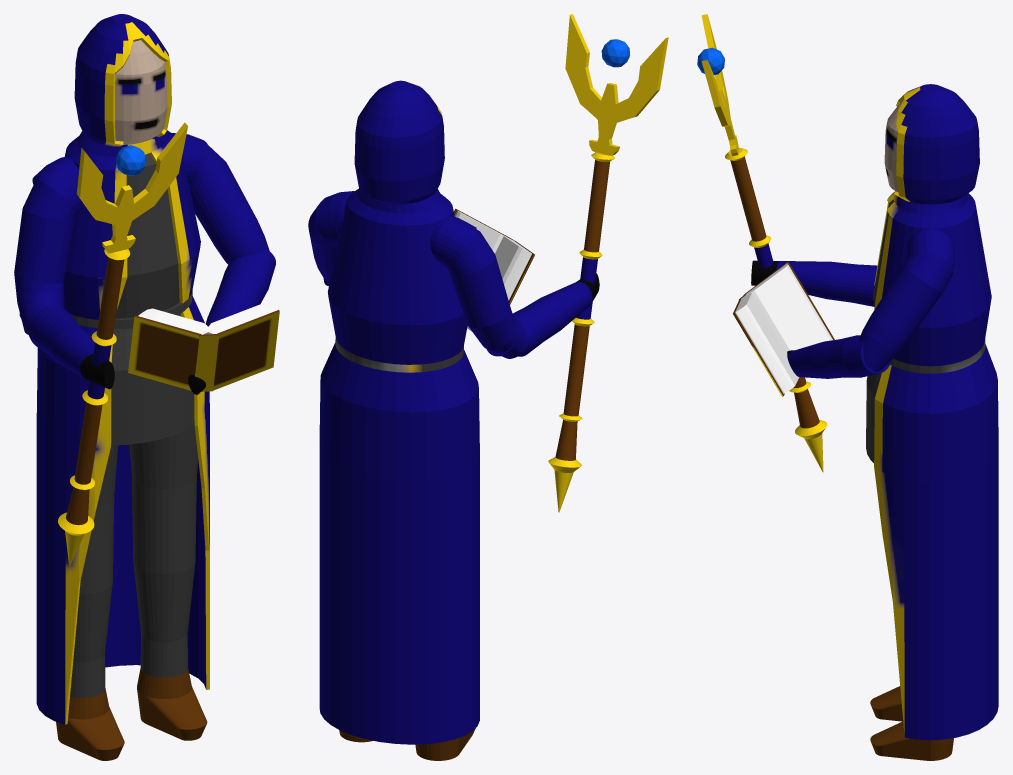
Rendered from Маг3.fbx.
3 renders of one model, left to right at view 1: azimuth 30°, elevation 25°; view 2: azimuth 150°, elevation 25°; view 3: azimuth 270°, elevation 25°, orthographic. The views are drawn at different scales.
Parts seen in each view (by area): view 1: Цилиндр.122, Цилиндр.125, Цилиндр.133, Цилиндр.132, Цилиндр.127, Цилиндр.130, Цилиндр.031, Цилиндр.129, Куб.014, Куб.068, Цилиндр.126, Куб.067 (+8 smaller); view 2: Цилиндр.122, Цилиндр.031, Цилиндр.127, Куб.014, Цилиндр.126, Цилиндр.124, Цилиндр.129, Куб.065, Цилиндр.123, Цилиндр.130, Икосфера.002; view 3: Цилиндр.122, Цилиндр.129, Куб.065, Цилиндр.031, Цилиндр.126, Цилиндр.128, Куб.064, Цилиндр.125, Цилиндр.133, Куб.014, Цилиндр.123, Цилиндр.130 (+1 smaller).
Boxes of the visible parts, x1,y1,x2,y2 form: Цилиндр.122: (36,14,209,724); Цилиндр.125: (111,40,194,445); Цилиндр.133: (133,563,207,740); Цилиндр.132: (129,425,198,574); Цилиндр.127: (14,170,83,334); Цилиндр.130: (56,583,124,760); Цилиндр.031: (58,249,130,566); Цилиндр.129: (189,145,269,264); Куб.014: (76,122,187,253); Куб.068: (128,315,201,390); Цилиндр.126: (19,305,114,389); Куб.067: (213,310,279,390); Цилиндр.122: (319,80,479,744); Цилиндр.031: (548,152,614,512); Цилиндр.127: (444,218,528,358); Куб.014: (565,14,668,155); Цилиндр.126: (487,273,599,356); Цилиндр.124: (430,215,476,266); Цилиндр.129: (308,199,339,282); Куб.065: (467,236,531,331); Цилиндр.123: (319,191,354,241); Цилиндр.130: (415,728,475,760); Икосфера.002: (601,39,629,67); Цилиндр.122: (874,84,998,740); Цилиндр.129: (859,252,954,372); Куб.065: (745,263,832,351); Цилиндр.031: (725,147,827,472); Цилиндр.126: (751,260,877,306); Цилиндр.128: (787,335,890,378); Куб.064: (735,293,799,393); Цилиндр.125: (866,100,903,462); Цилиндр.133: (870,721,953,760); Куб.014: (701,14,738,156); Цилиндр.123: (906,228,954,268); Цилиндр.130: (870,686,903,721).
Size of the model in its own units: 47.12 by 114 by 48.19.
